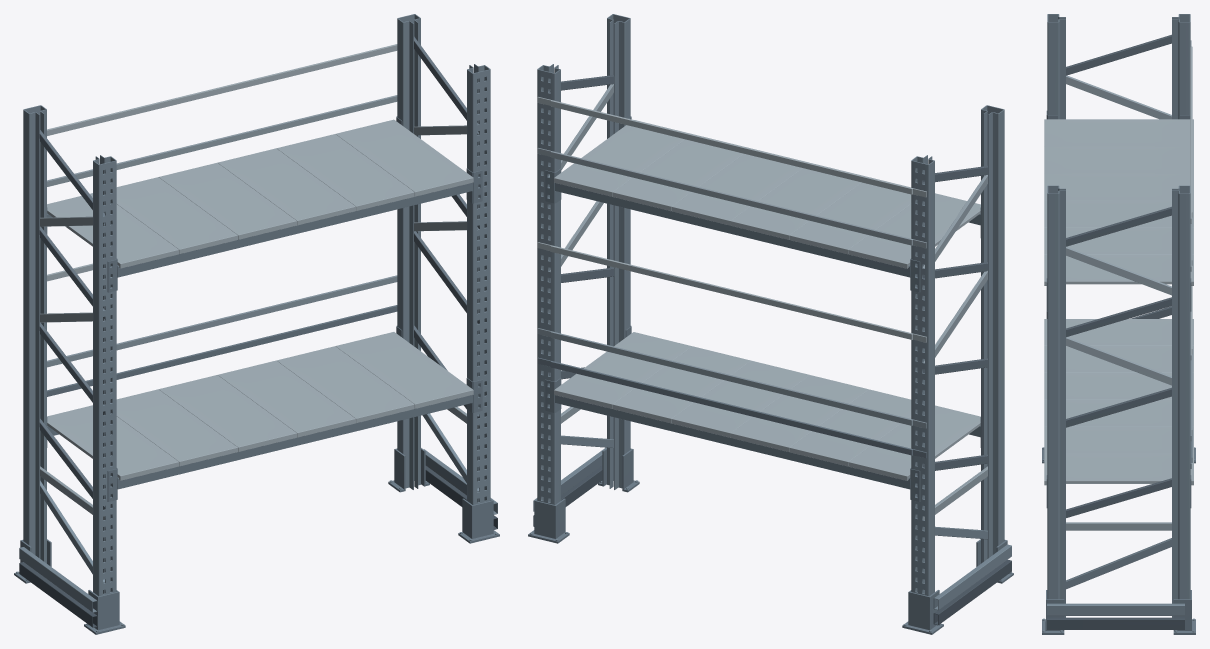
The model's file is SM_ShelfEmptyx1_White_D.fbx.
3 renders of one model, left to right at view 1: azimuth 30°, elevation 25°; view 2: azimuth 150°, elevation 25°; view 3: azimuth 270°, elevation 25°, orthographic. The views are drawn at different scales.
Visible parts, largest first — view 1: SM_ShelfEmptyx1_White_D; view 2: SM_ShelfEmptyx1_White_D; view 3: SM_ShelfEmptyx1_White_D.
Boxes of the visible parts, x1=… form: SM_ShelfEmptyx1_White_D: x1=14, y1=14, x2=499, y2=634; SM_ShelfEmptyx1_White_D: x1=528, y1=14, x2=1013, y2=634; SM_ShelfEmptyx1_White_D: x1=1042, y1=14, x2=1195, y2=634.
Bounding box in the file's own units: 336 × 370 × 118.
